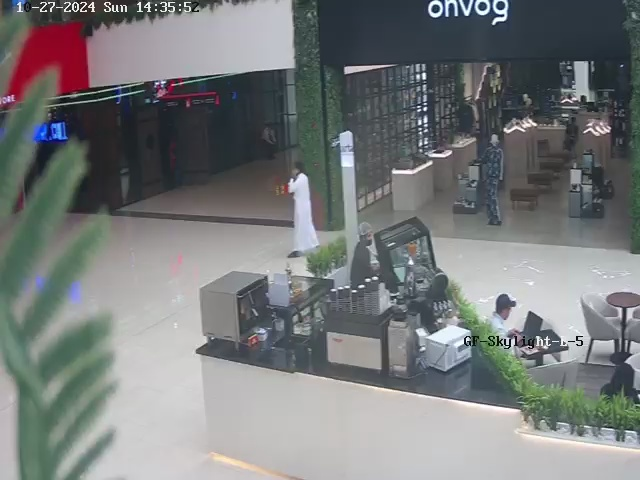male: (286, 161, 320, 258), (344, 218, 381, 290), (489, 293, 522, 357), (258, 118, 284, 162)
other: (480, 133, 504, 226)
